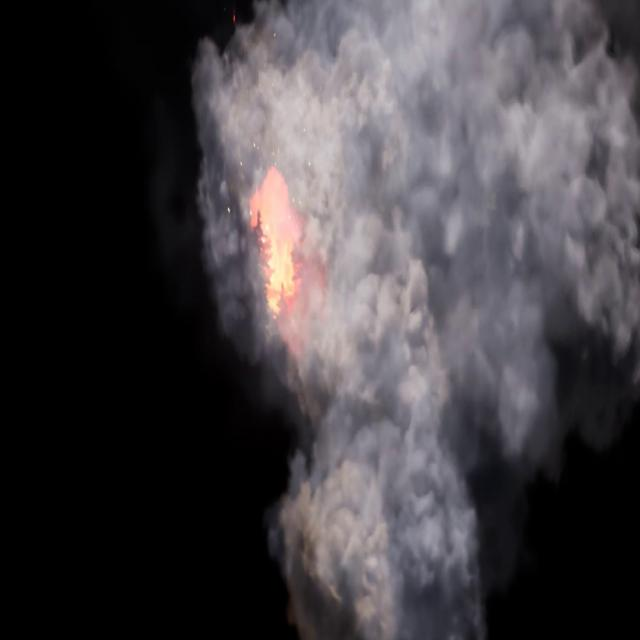fire: (242, 169, 324, 318)
smoke: (186, 0, 640, 639)
